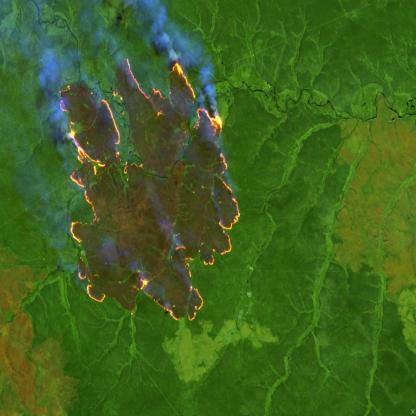fire: (58, 61, 240, 324)
